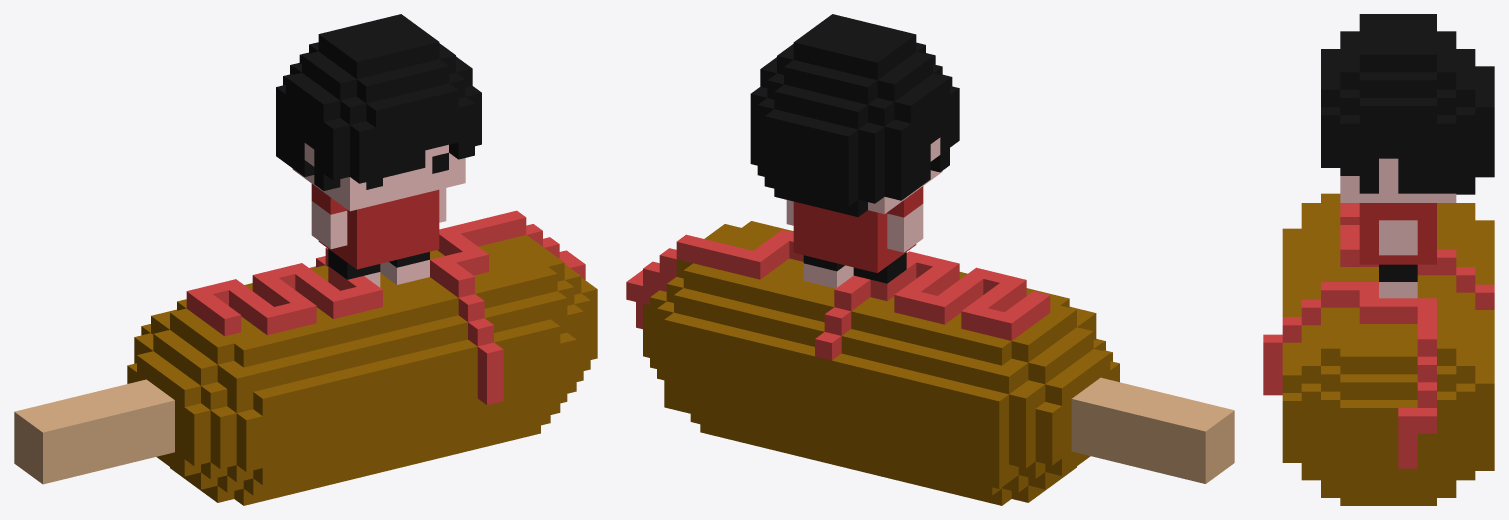
The model's file is Credit_OHS.obj.
3 views of the same model, side by side, from view 1: azimuth 30°, elevation 25°; view 2: azimuth 150°, elevation 25°; view 3: azimuth 270°, elevation 25° (orthographic).
Size of the model in its own units: 34 by 23 by 12.
Materials: 1 (1 with a texture image).
